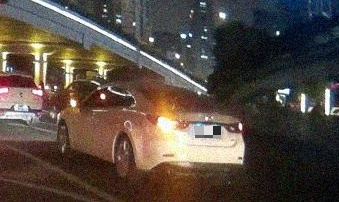L_light: (146, 114, 190, 132), (0, 87, 9, 95)
R_light: (222, 122, 244, 133), (31, 89, 43, 96)
T_light: (164, 88, 180, 91), (10, 74, 21, 77)
night-left: (132, 83, 246, 184)
night-no: (0, 74, 44, 125)
plate_1: (195, 126, 221, 138)
